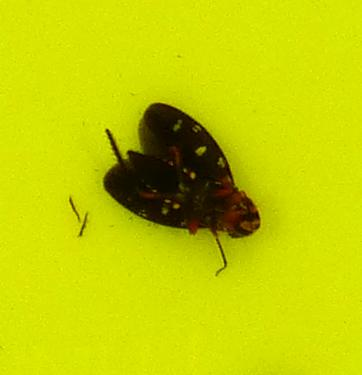Hemiptera: (100, 100, 262, 275)
